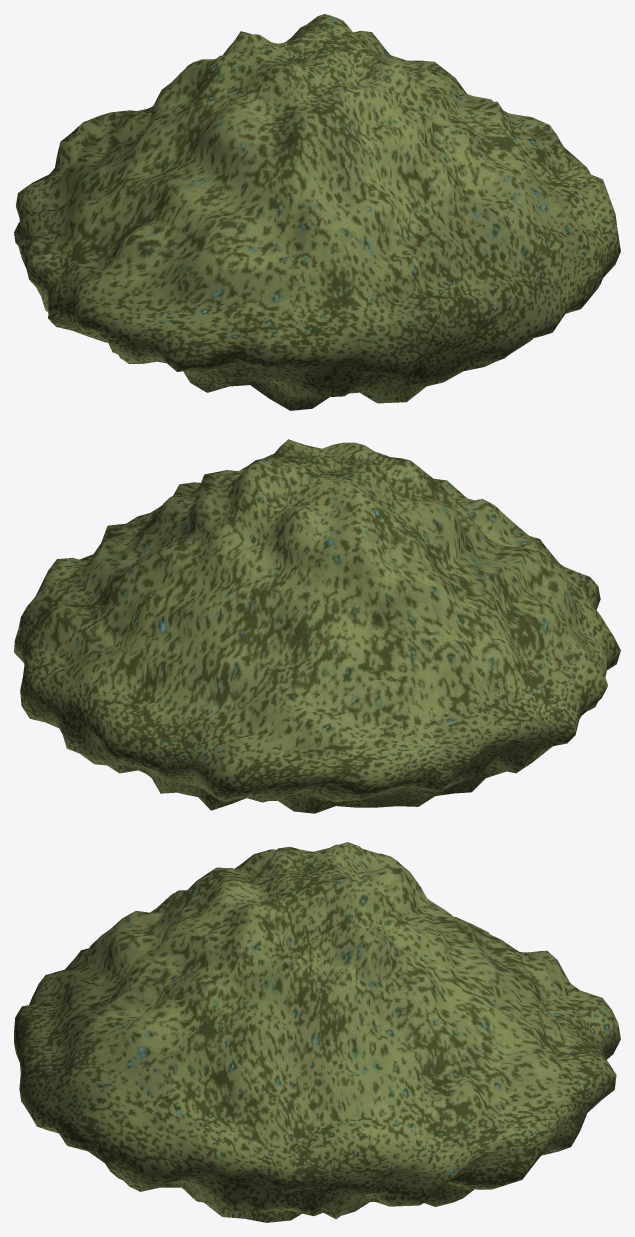
The model's file is 09-BLD.fbx.
The picture shows the model from 3 angles, top to bottom: view 1: azimuth 30°, elevation 25°; view 2: azimuth 150°, elevation 25°; view 3: azimuth 270°, elevation 25°; orthographic projection.
Visible parts, largest first — view 1: 09-BLD_LOD00; view 2: 09-BLD_LOD00; view 3: 09-BLD_LOD00.
Part boxes in pixels (bbox=[...]): 09-BLD_LOD00: bbox=[14, 14, 620, 410]; 09-BLD_LOD00: bbox=[14, 439, 620, 813]; 09-BLD_LOD00: bbox=[14, 842, 620, 1222].
Size of what is drawn, in the model's own units: 414 by 206 by 414.
